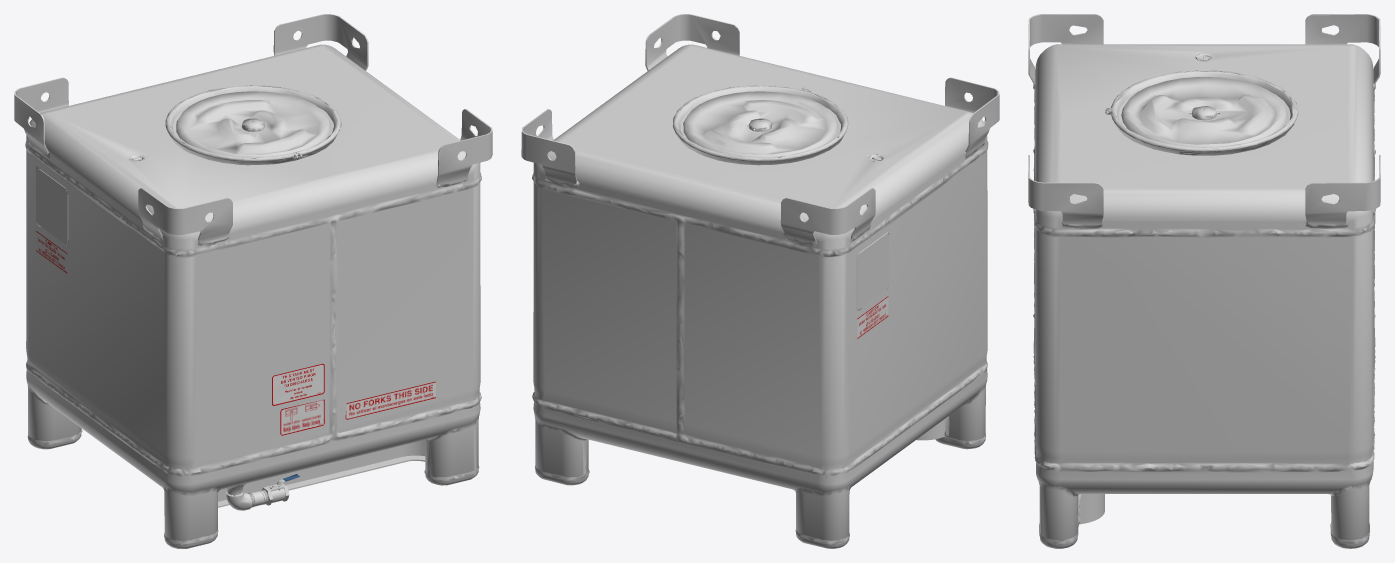
File: ibc.glb
3 renders of one model, left to right at view 1: azimuth 30°, elevation 25°; view 2: azimuth 150°, elevation 25°; view 3: azimuth 270°, elevation 25°, orthographic. The views are drawn at different scales.
Parts seen in each view (by area): view 1: sm_body_a01_mesh_00, sm_lidelement_a01_mesh_00; view 2: sm_body_a01_mesh_00, sm_lidelement_a01_mesh_00; view 3: sm_body_a01_mesh_00, sm_lidelement_a01_mesh_00.
Part boxes in pixels (x1,y1,x2,y2): sm_body_a01_mesh_00: (14,14,492,548); sm_lidelement_a01_mesh_00: (165,85,341,165); sm_body_a01_mesh_00: (521,14,999,548); sm_lidelement_a01_mesh_00: (672,85,848,165); sm_body_a01_mesh_00: (1028,14,1380,548); sm_lidelement_a01_mesh_00: (1105,70,1298,155).
Bounding box in the file's own units: 1.26 × 1.3 × 1.11.
Materials: 4 (3 with a texture image).
